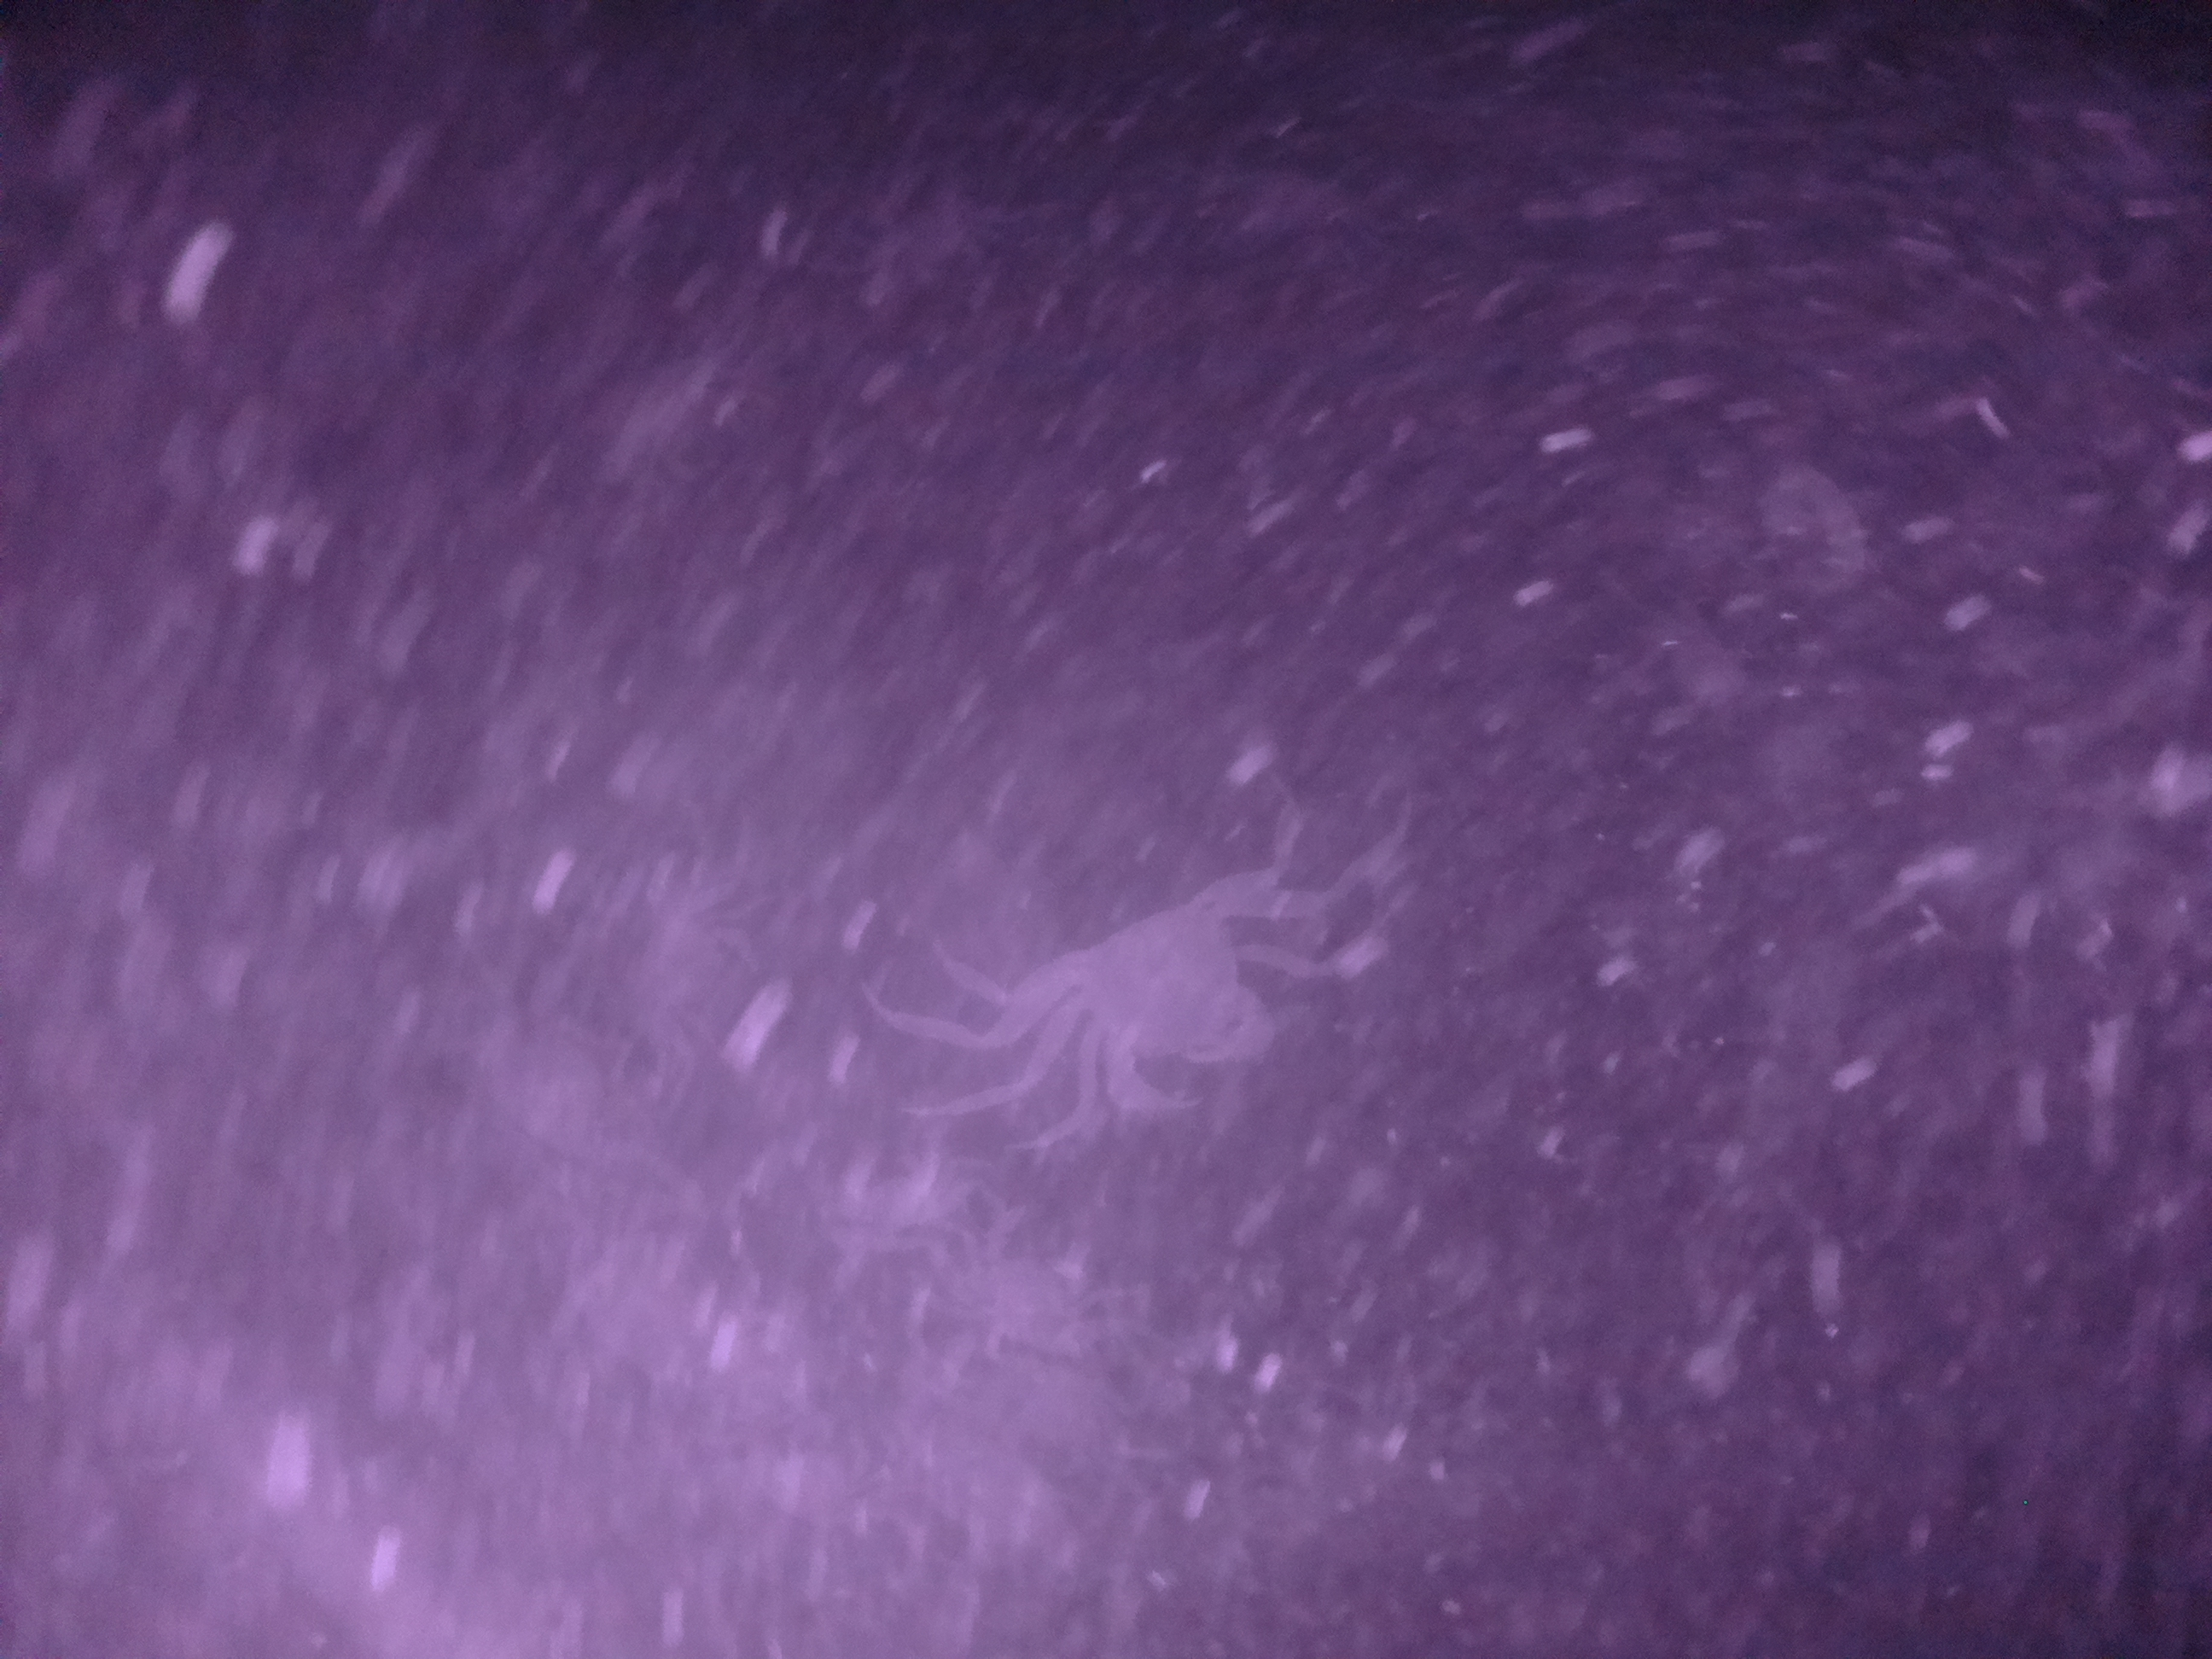Crab: (1000, 877, 1315, 1140)
